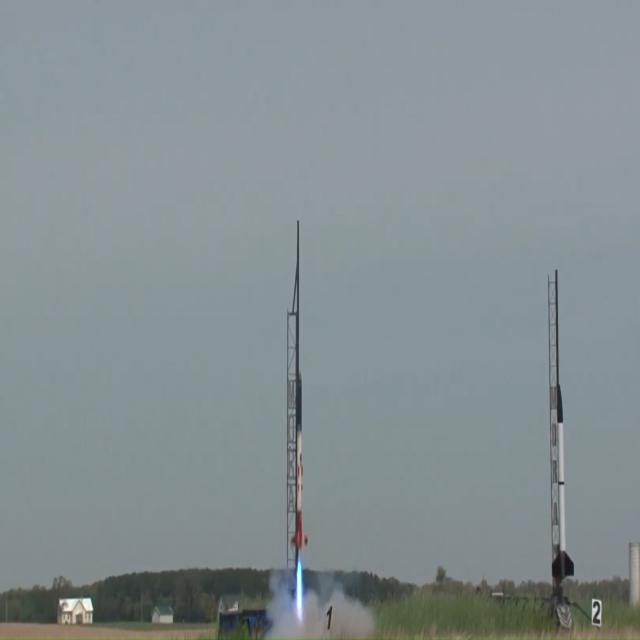Rocket: (552, 383, 574, 582), (292, 374, 308, 572)
